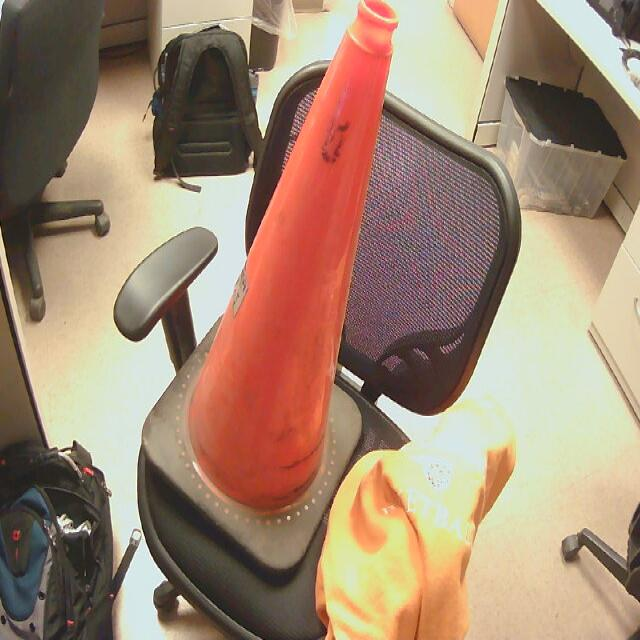traffic cone: (143, 1, 401, 574)
